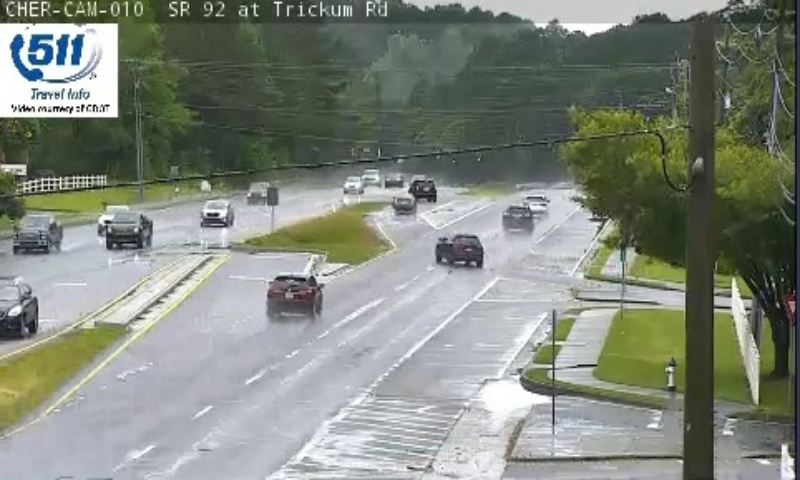car: (265, 274, 321, 312), (502, 203, 532, 232), (522, 194, 547, 216)
